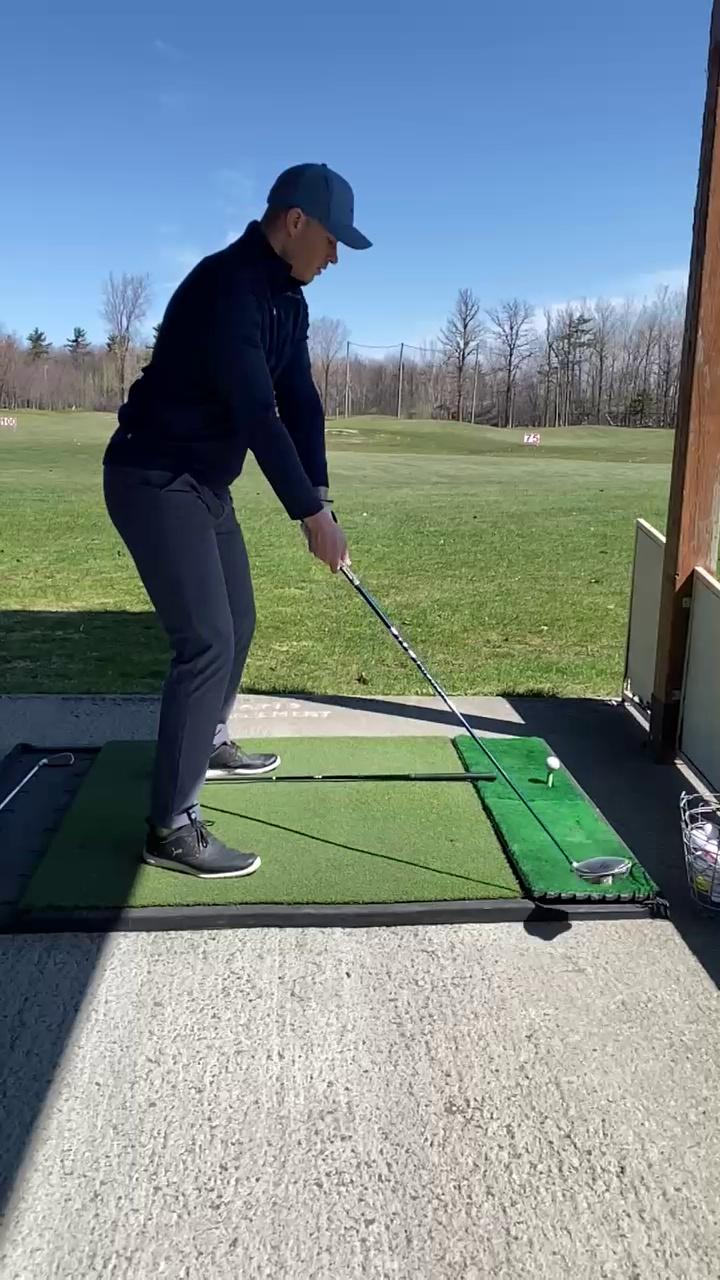ClubHead: (563, 848, 635, 887), (38, 751, 77, 772)
GolfBall: (544, 754, 563, 776)
